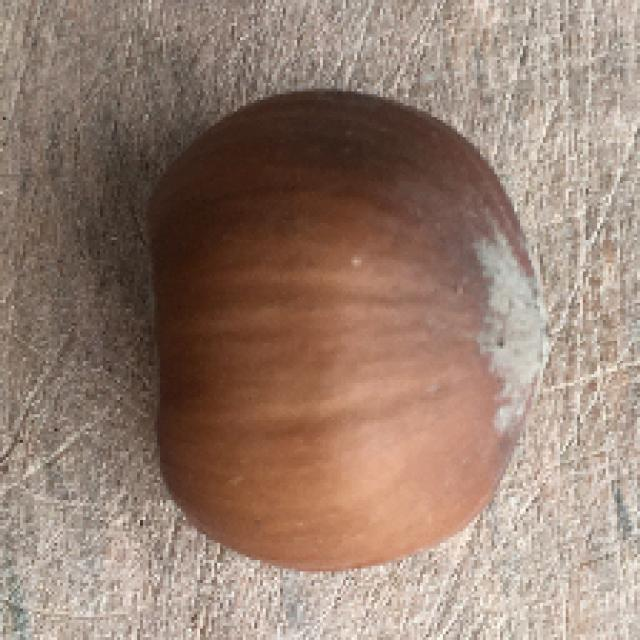qualityHazelnut: (138, 63, 555, 584)
